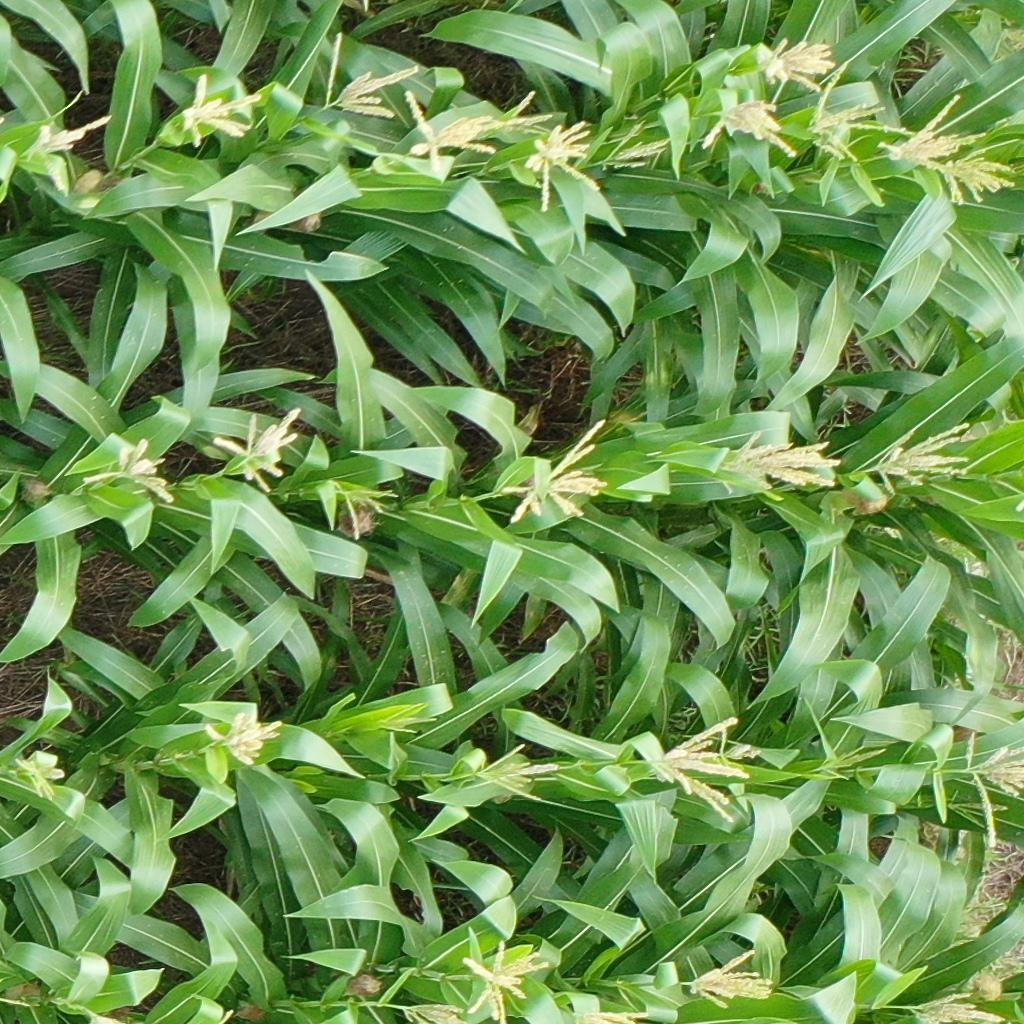Tassel: (499, 417, 618, 529), (646, 712, 763, 824), (807, 58, 918, 164), (314, 29, 421, 125), (403, 90, 499, 182), (213, 403, 310, 494), (874, 421, 979, 500), (21, 113, 114, 201), (694, 85, 805, 158), (718, 432, 844, 494), (881, 91, 985, 163), (178, 68, 263, 154), (461, 940, 548, 1024), (522, 120, 600, 209), (966, 732, 1024, 848), (87, 439, 186, 503), (477, 743, 570, 807), (686, 947, 776, 1009), (199, 709, 285, 770), (933, 151, 1015, 207), (756, 36, 833, 89), (601, 117, 671, 175), (336, 483, 402, 543), (906, 989, 1005, 1024), (811, 743, 890, 780), (14, 750, 67, 803), (495, 86, 551, 136), (377, 701, 442, 738), (718, 730, 761, 766), (399, 1003, 468, 1024), (569, 1008, 652, 1024)
